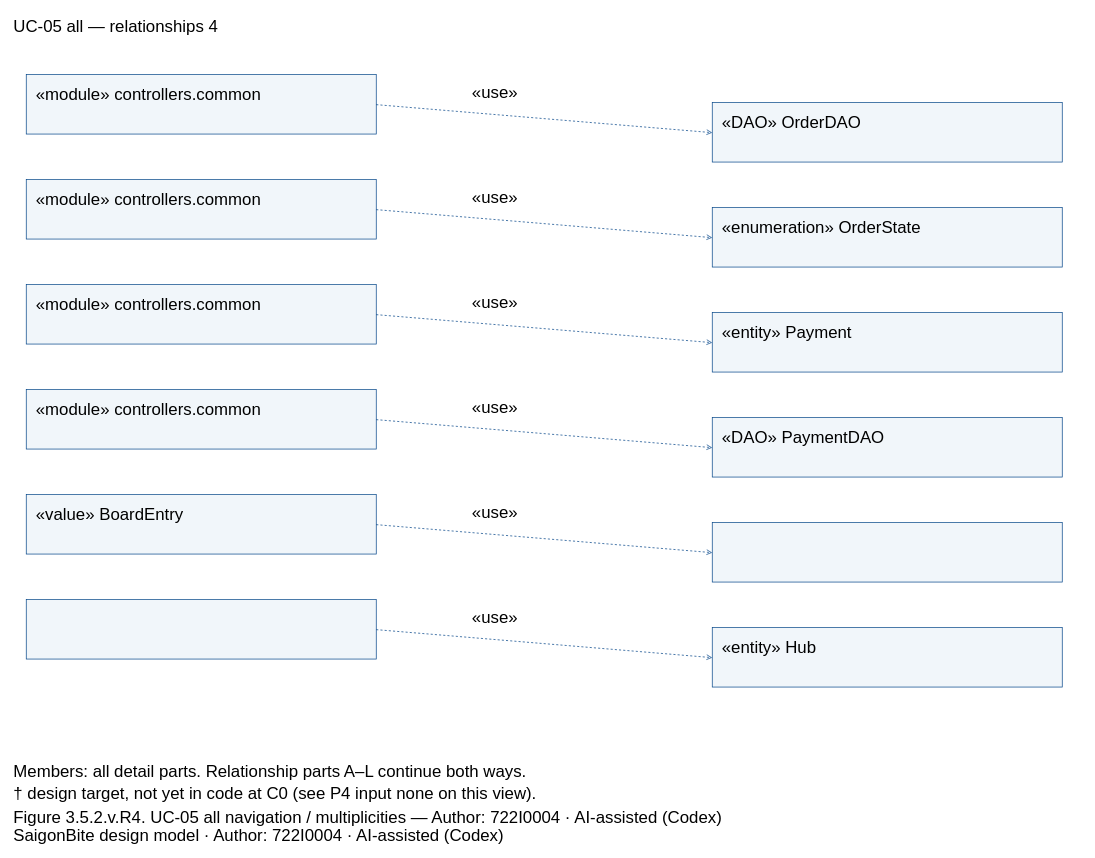
Some shapes in this 1095 by 858 pixel diagram are drawn without their labels. Each missing label, with the centre of its shape:
«entity» Order: the point at 887,552
«value» KitchenBoard: the point at 201,629
